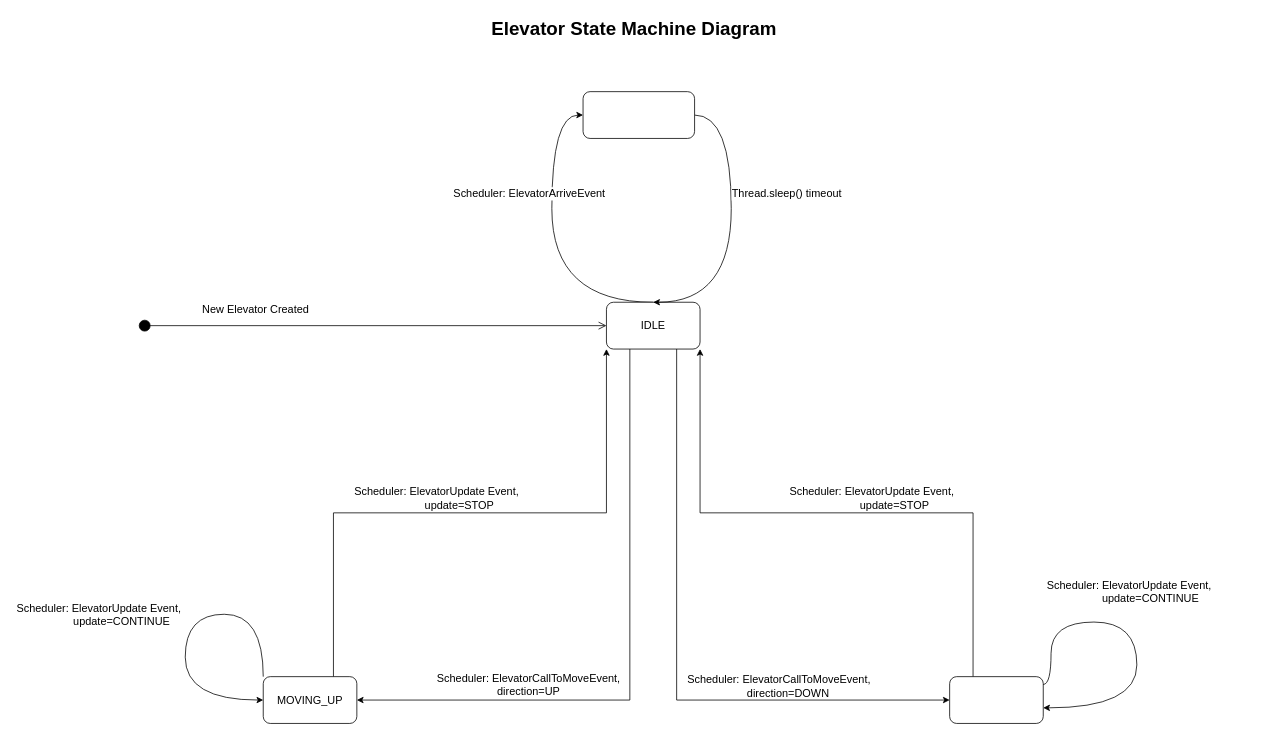
This 1267x737 diagram has some shape labels left out. Here are the shapes that lost their labels. From the top down, the box of each, then its label:
(582, 91, 695, 138): LOADING_PASSENGER
(949, 676, 1043, 723): MOVING_DOWN
